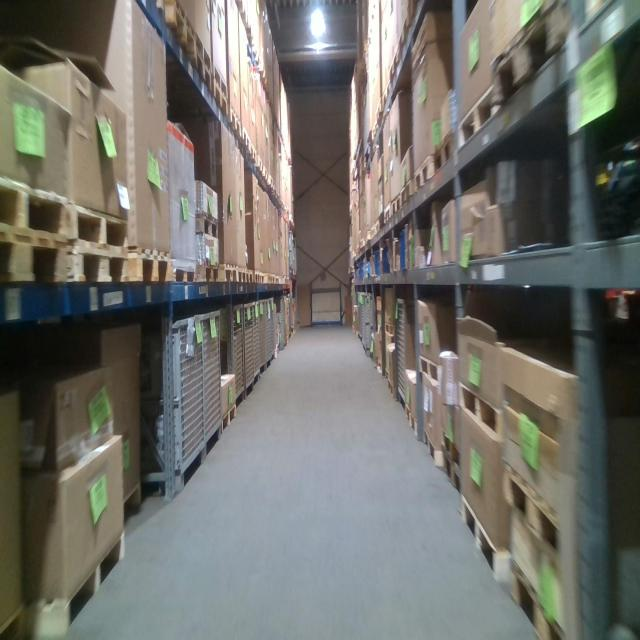pallet: (19, 518, 125, 639), (490, 3, 566, 106), (502, 454, 570, 568), (0, 170, 70, 246), (0, 222, 69, 291), (506, 565, 569, 638), (460, 486, 504, 588), (454, 374, 506, 453), (68, 197, 131, 250), (69, 245, 132, 290), (459, 85, 494, 155), (161, 2, 196, 66), (131, 248, 179, 283), (438, 450, 462, 505), (439, 420, 463, 471), (432, 134, 453, 189), (422, 423, 444, 469), (190, 210, 221, 241), (418, 349, 442, 389), (413, 156, 429, 204), (170, 258, 195, 288), (193, 264, 220, 290), (219, 402, 238, 436), (213, 80, 229, 118), (196, 53, 211, 89), (213, 67, 229, 99), (197, 41, 211, 72)
stillage: (133, 303, 204, 498), (392, 293, 421, 414), (202, 306, 223, 460), (224, 295, 246, 411), (243, 297, 255, 403), (367, 293, 381, 359), (253, 303, 262, 390), (360, 295, 371, 350), (277, 295, 287, 351), (260, 294, 266, 381), (266, 295, 272, 374), (355, 289, 362, 346), (271, 297, 276, 366)
